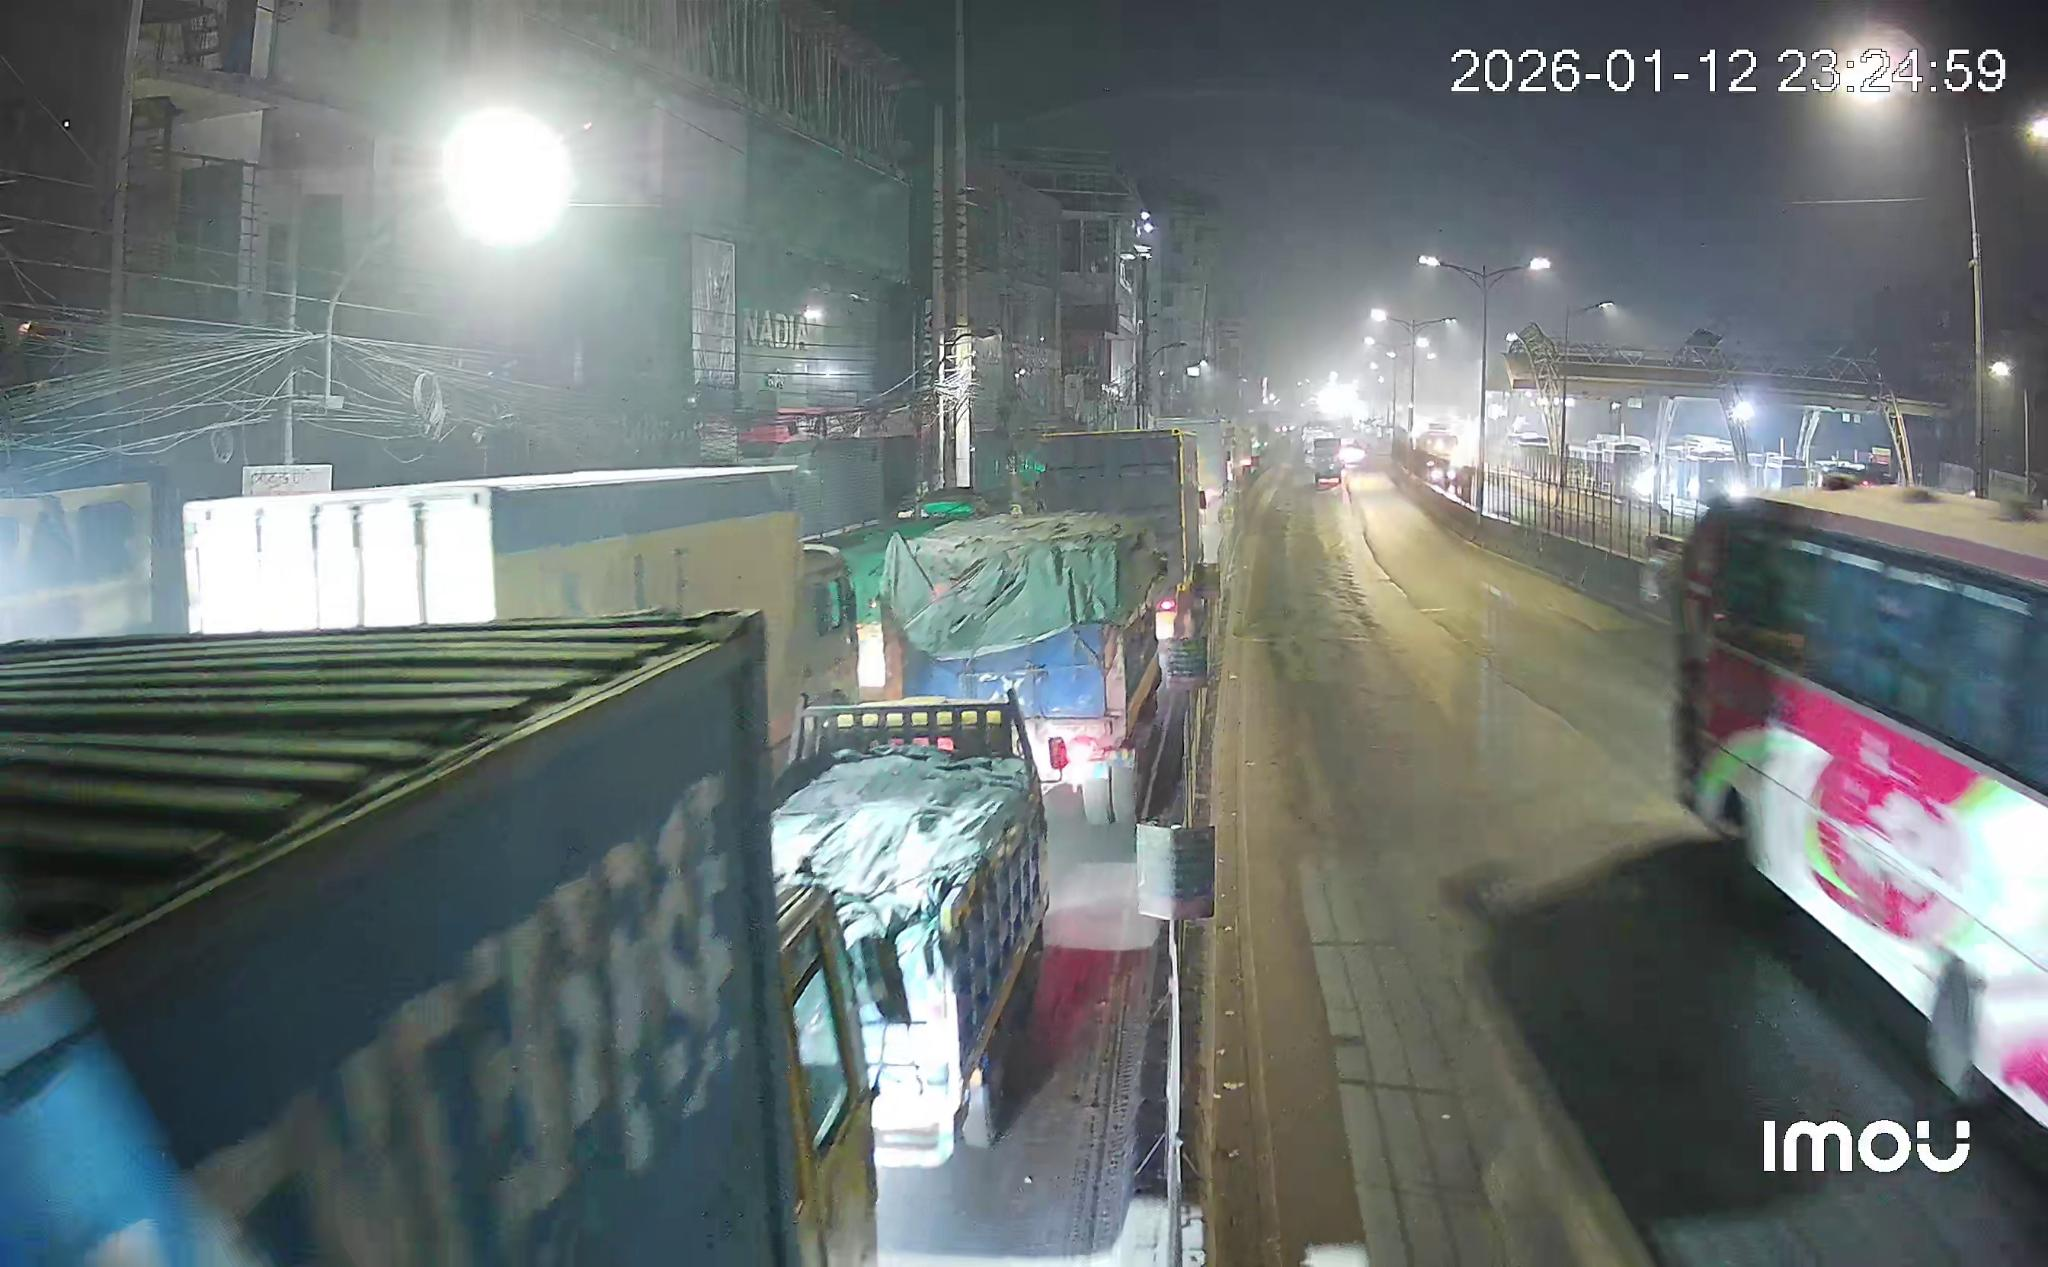Bus: (1672, 486, 2047, 1129)
Truck: (0, 610, 875, 1267), (183, 466, 854, 743), (772, 696, 1048, 1167), (880, 513, 1166, 821), (1035, 429, 1202, 641)
